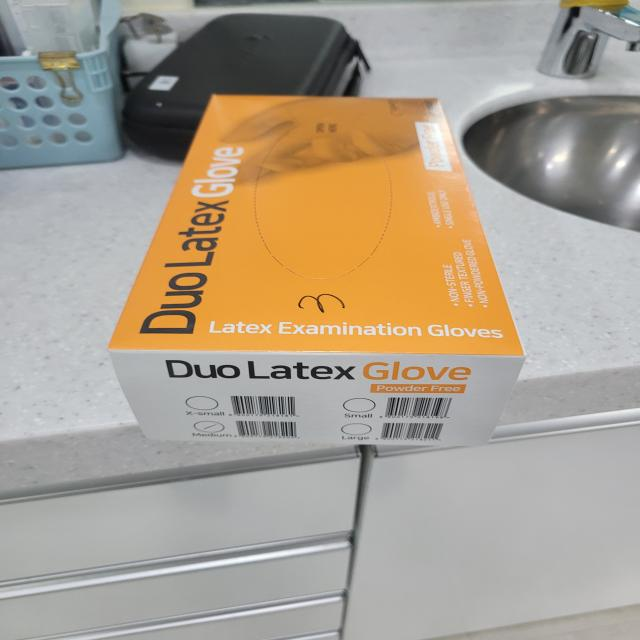glove: (94, 66, 552, 486)
